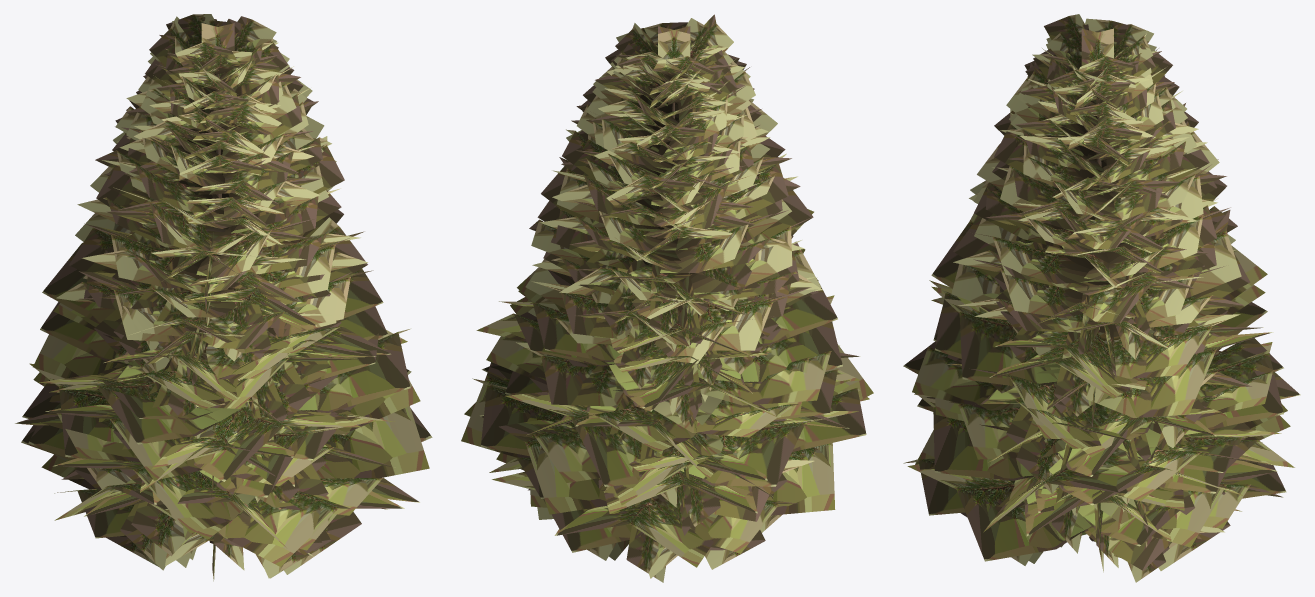
The model's file is fir_small_a_lod1.gltf.
The picture shows the model from 3 angles, left to right: view 1: azimuth 30°, elevation 25°; view 2: azimuth 150°, elevation 25°; view 3: azimuth 270°, elevation 25°; orthographic projection. The views are drawn at different scales.
Parts seen in each view (by area): view 1: fir_small_a_LOD1; view 2: fir_small_a_LOD1; view 3: fir_small_a_LOD1.
Part boxes in pixels (x1,y1,x2,y2): fir_small_a_LOD1: (15,14,432,581); fir_small_a_LOD1: (461,14,873,582); fir_small_a_LOD1: (903,14,1300,582).
Size of the model in its own units: 8.6 by 12.01 by 8.13.
Materials: 2 (2 with a texture image).
